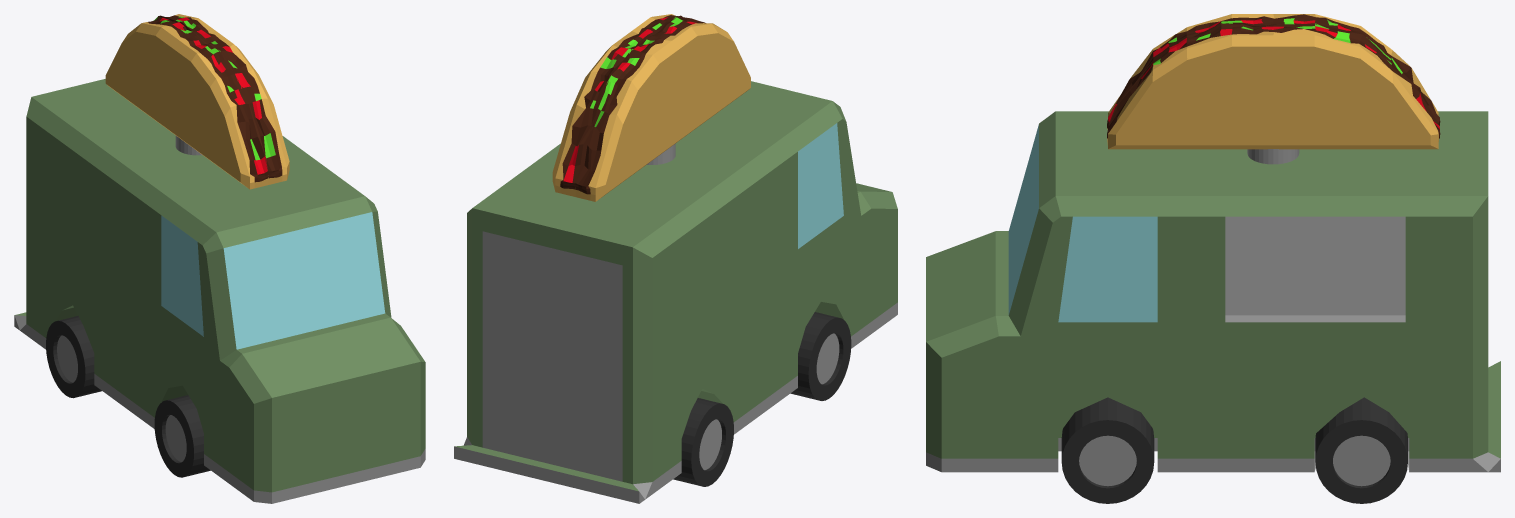
Rendered from taco truck.fbx.
3 renders of one model, left to right at view 1: azimuth 30°, elevation 25°; view 2: azimuth 150°, elevation 25°; view 3: azimuth 270°, elevation 25°, orthographic. The views are drawn at different scales.
Parts seen in each view (by area): view 1: Cylinder; view 2: Cylinder; view 3: Cylinder.
Part boxes in pixels (x1,y1,x2,y2): Cylinder: [14, 14, 425, 503]; Cylinder: [454, 14, 897, 503]; Cylinder: [926, 14, 1500, 503].
Bounding box in the file's own units: 159 × 286 × 348.
